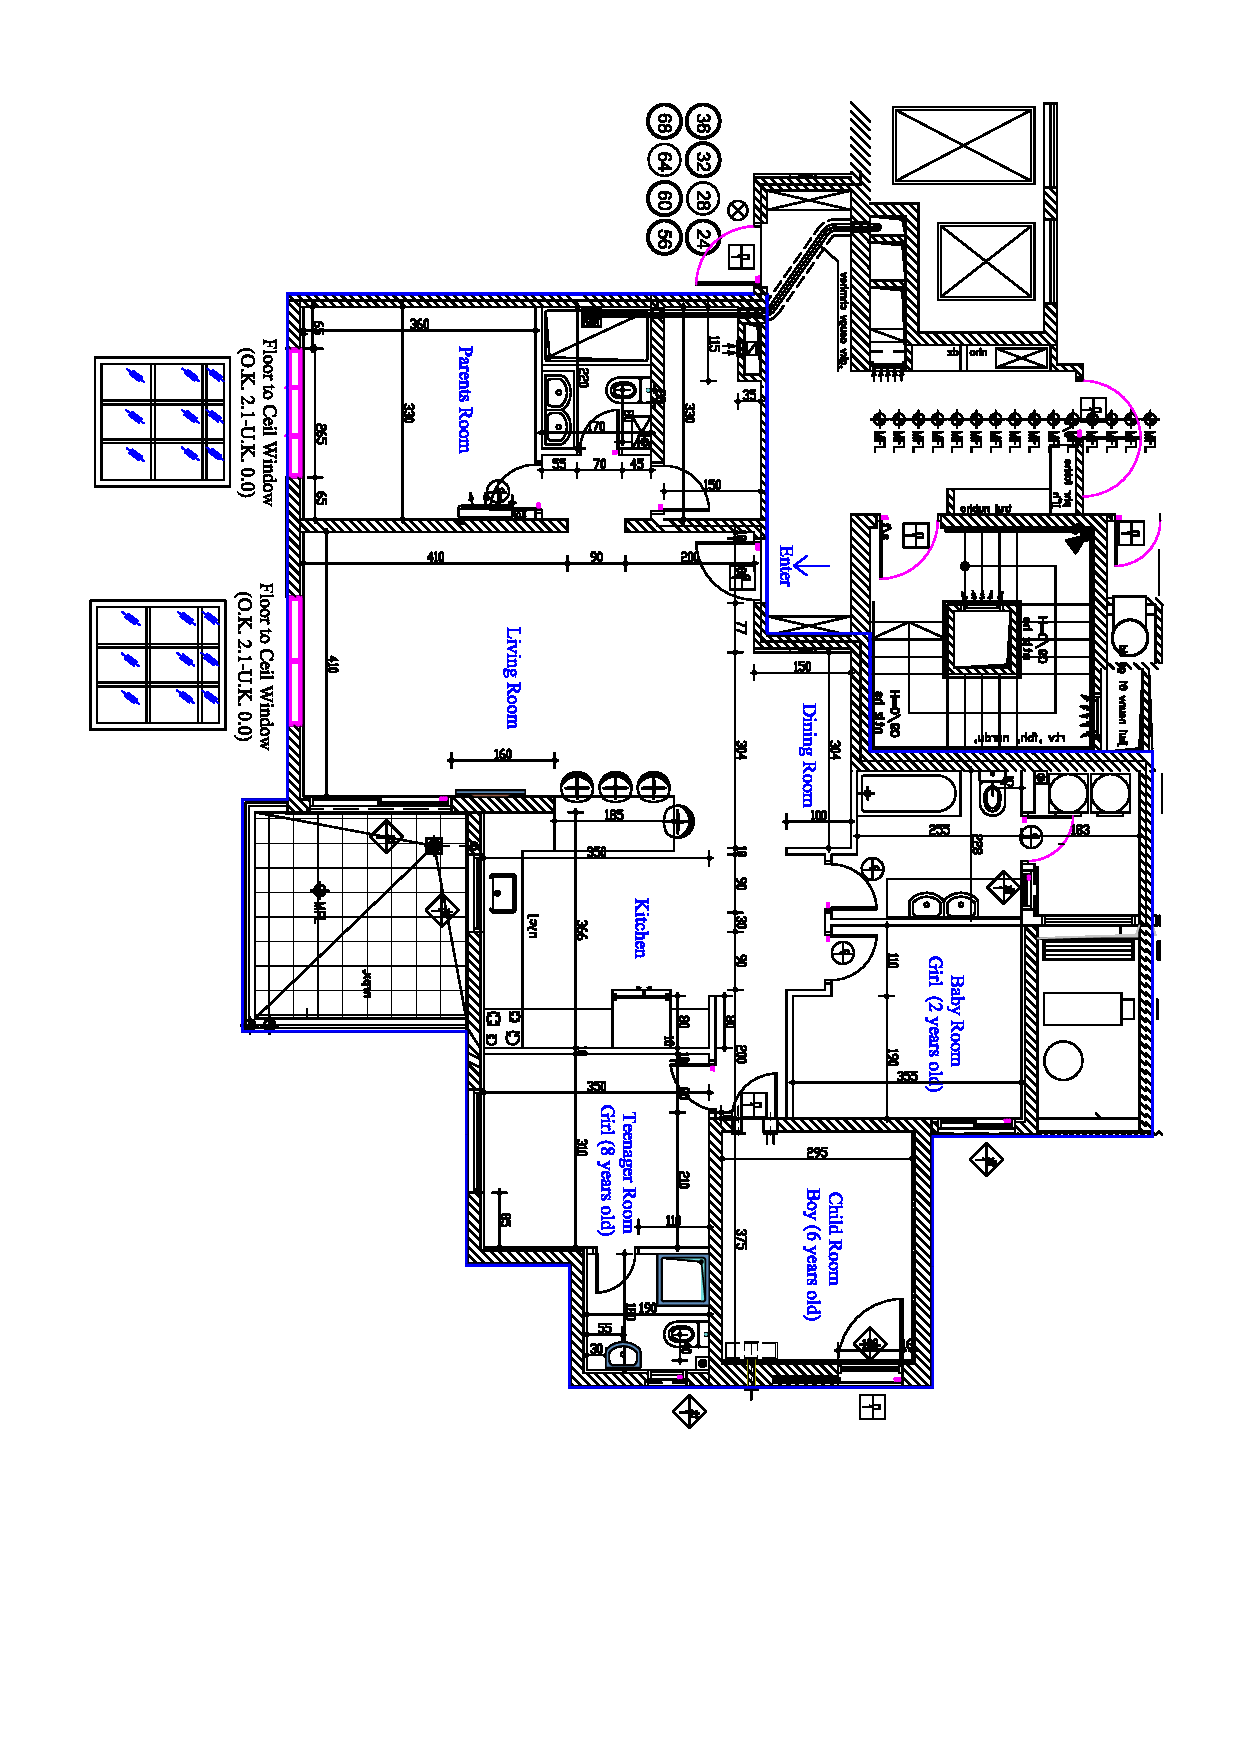door: (828, 1294, 906, 1357), (829, 930, 883, 984), (827, 862, 880, 914)
wall: (909, 1117, 931, 1388), (1023, 925, 1039, 1135), (305, 519, 564, 530), (463, 930, 480, 1079), (1087, 515, 1104, 660), (900, 200, 921, 319), (907, 327, 1052, 341), (456, 797, 556, 815), (852, 517, 866, 619)
window: (1041, 102, 1060, 187), (1045, 221, 1057, 301)
